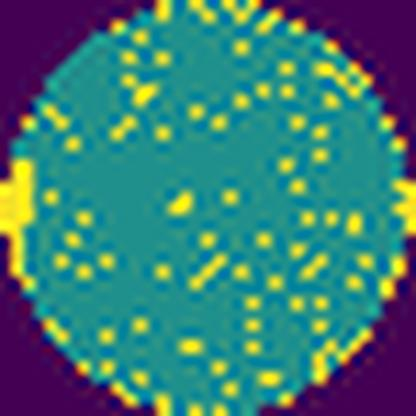Edge-Loc: (0, 151, 41, 298), (386, 173, 416, 240)
